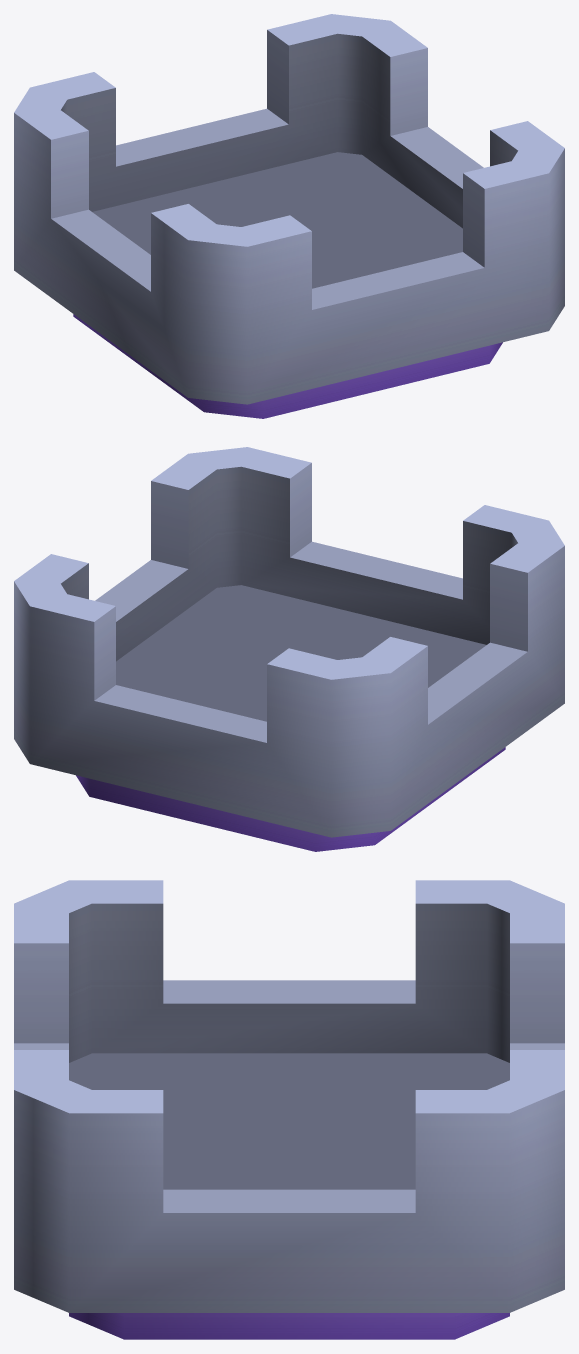
Rendered from kenney-tower-defense-tower-square-middle-c.glb.
3 views of the same model, one above another, from view 1: azimuth 30°, elevation 25°; view 2: azimuth 150°, elevation 25°; view 3: azimuth 270°, elevation 25° (orthographic). The views are drawn at different scales.
Visible parts, largest first — view 1: tower-square-middle-c; view 2: tower-square-middle-c; view 3: tower-square-middle-c.
Part boxes in pixels (x1,y1,x2,y2): tower-square-middle-c: [14, 14, 564, 418]; tower-square-middle-c: [14, 447, 564, 851]; tower-square-middle-c: [14, 880, 564, 1339].
Size of the model in its own units: 1 by 0.5001 by 1.
1 material, 1 textured.
